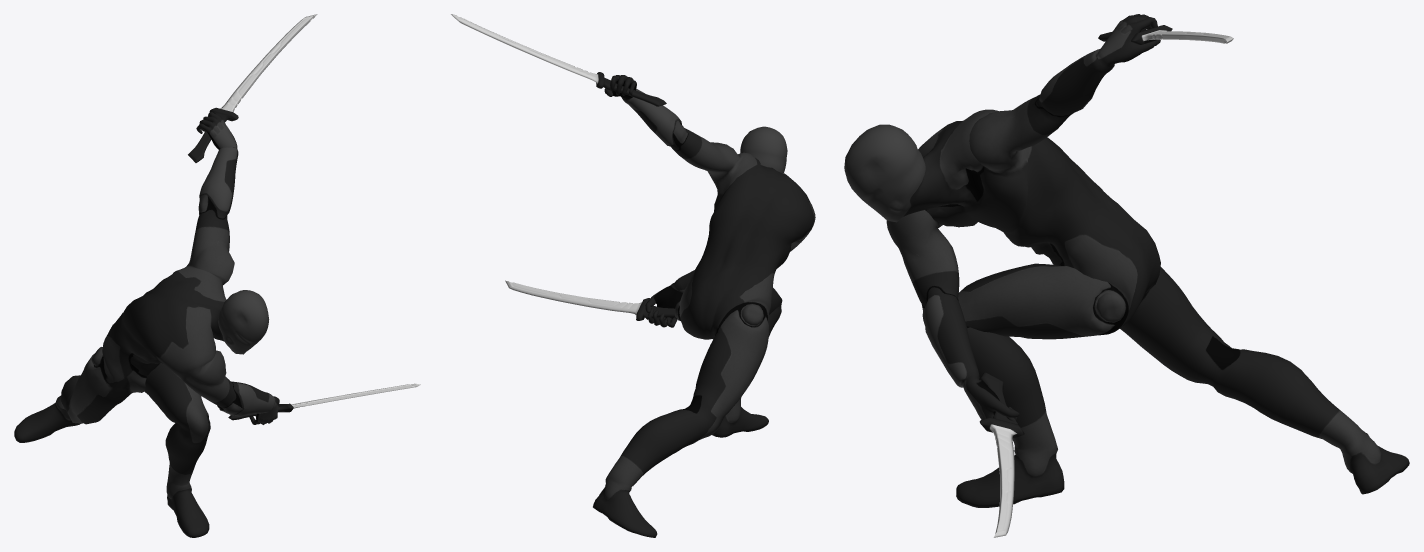
3 views of the same model, side by side, from view 1: azimuth 30°, elevation 25°; view 2: azimuth 150°, elevation 25°; view 3: azimuth 270°, elevation 25° (orthographic). The views are drawn at different scales.
Visible parts, largest first — view 1: Cyborg_Ninja_Killer, Sword_l, Sword_l001; view 2: Cyborg_Ninja_Killer, Sword_l001, Sword_l; view 3: Cyborg_Ninja_Killer, Sword_l001, Sword_l.
Boxes of the visible parts, x1=… form: Cyborg_Ninja_Killer: x1=14, y1=112, x2=279, y2=537; Sword_l: x1=188, y1=14, x2=317, y2=162; Sword_l001: x1=228, y1=383, x2=420, y2=420; Cyborg_Ninja_Killer: x1=593, y1=75, x2=815, y2=537; Sword_l001: x1=505, y1=280, x2=675, y2=320; Sword_l: x1=451, y1=14, x2=666, y2=106; Cyborg_Ninja_Killer: x1=844, y1=14, x2=1409, y2=507; Sword_l001: x1=979, y1=372, x2=1024, y2=537; Sword_l: x1=1098, y1=25, x2=1233, y2=44.
Bounding box in the file's own units: 133 × 177 × 150.
2 materials, 2 textured.
